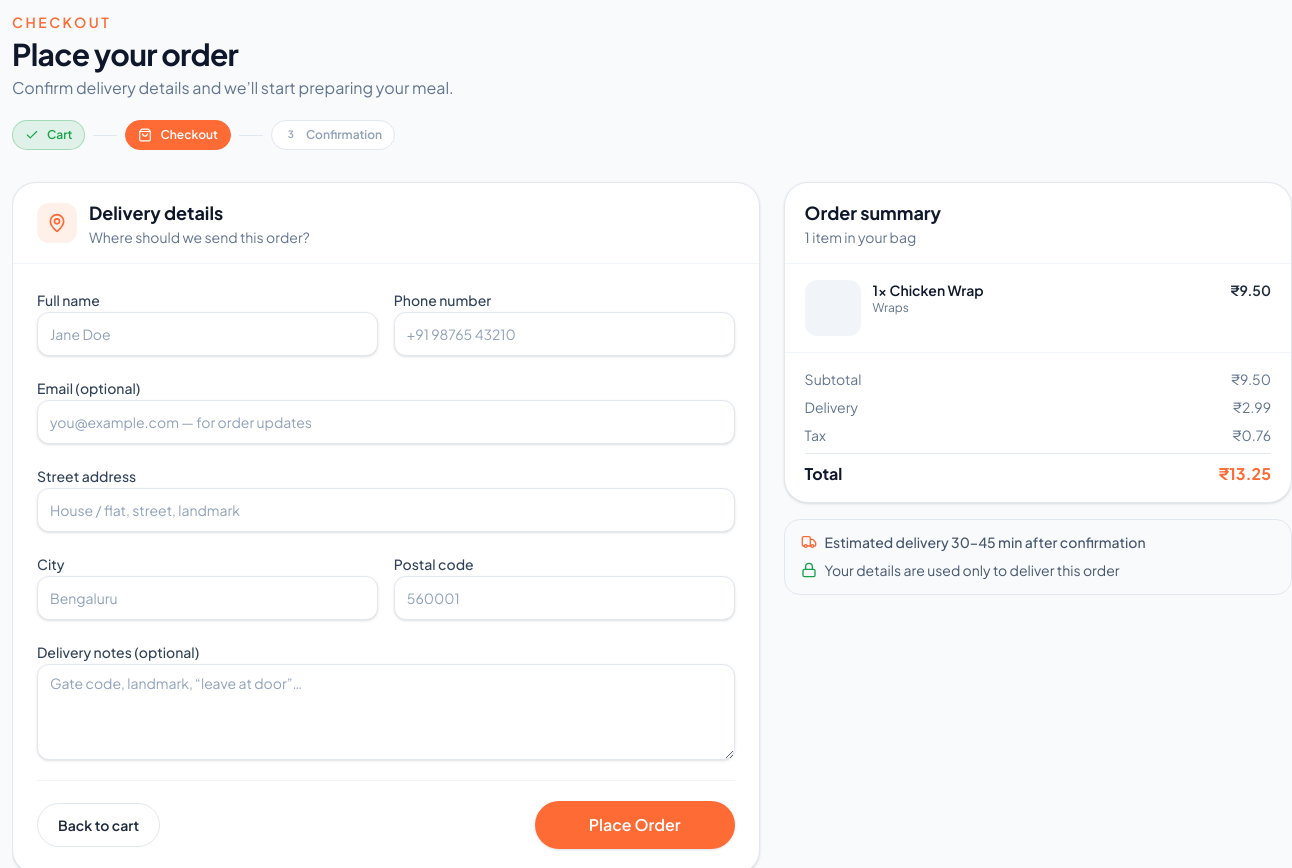
Test case: CheckoutPage › shows validation errors when required delivery fields are empty
Expected: the heading "Delivery details" is shown, [89,201,223,224]
Expected: the text "1× Chicken Wrap" is shown, [873,281,984,299]
Click the button "Place Order" at coordinates (635, 825), box [535,801,735,849]
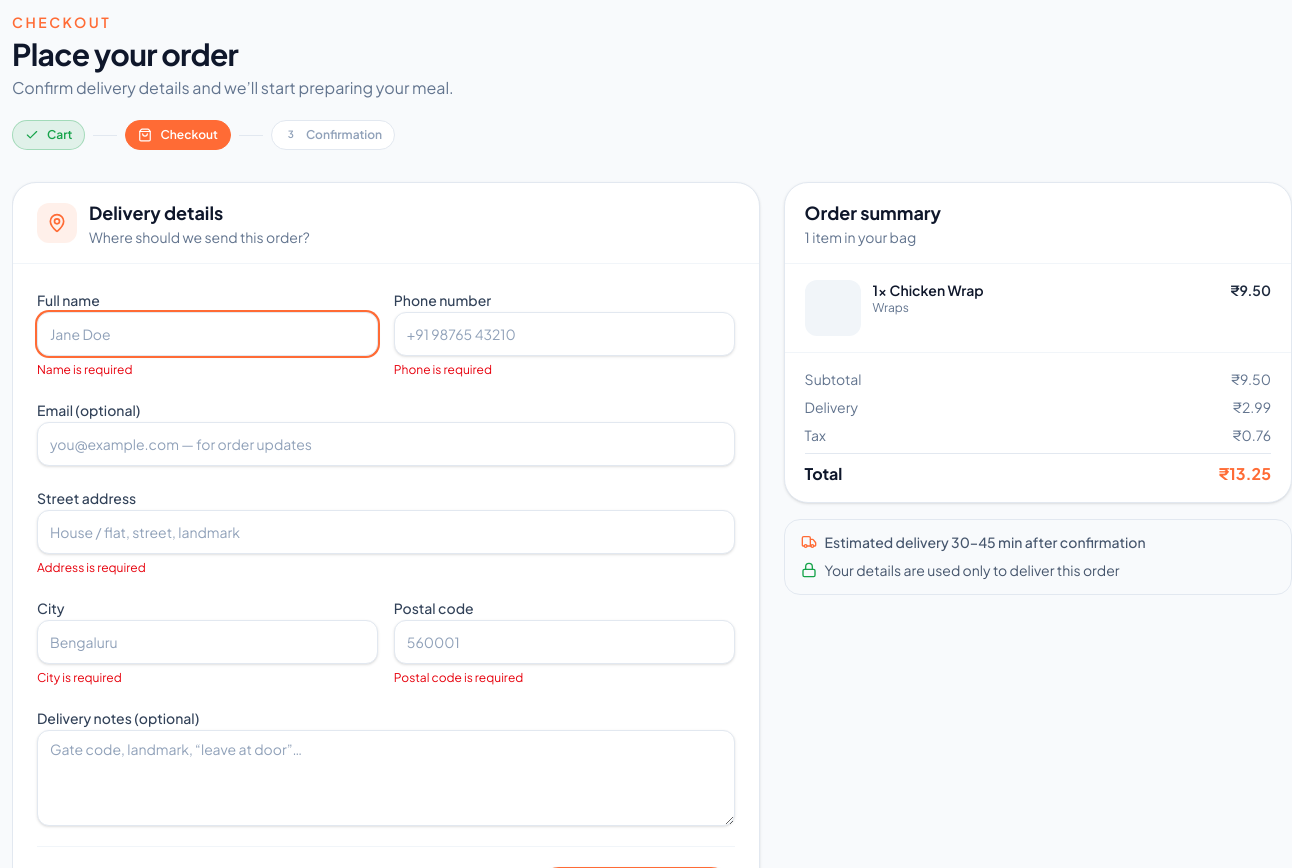
Expected: the text "Name is required" is shown, [37,362,132,377]
Expected: the text "Phone is required" is shown, [394,362,492,377]
Expected: the text "Address is required" is shown, [37,560,146,575]
